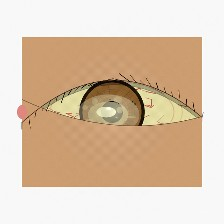corneal_ulcer: (75, 89, 141, 141)
